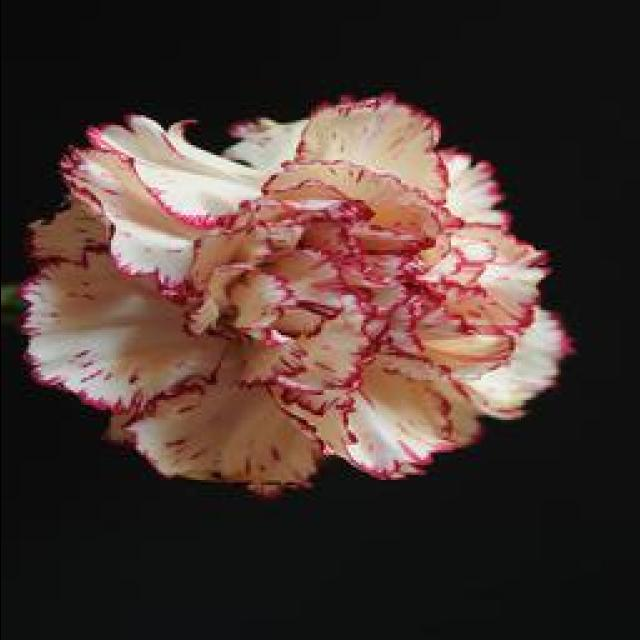carnation: (34, 85, 572, 541)
